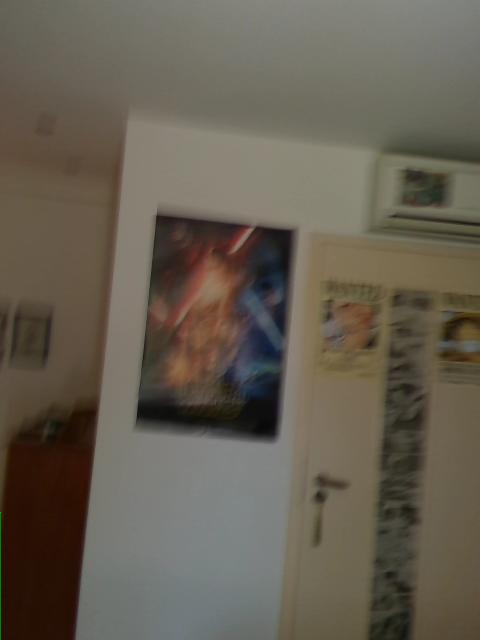door: (279, 233, 478, 637)
